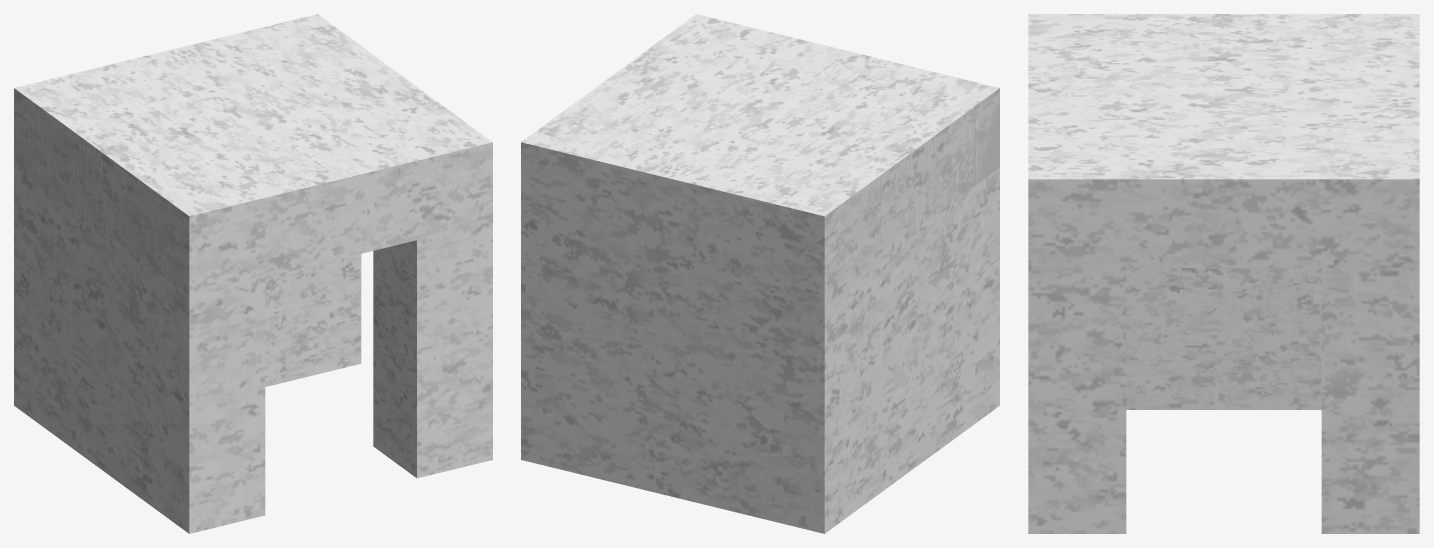
The model's file is internal_hall_turn.obj.
3 renders of one model, left to right at view 1: azimuth 30°, elevation 25°; view 2: azimuth 150°, elevation 25°; view 3: azimuth 270°, elevation 25°, orthographic. The views are drawn at different scales.
Parts seen in each view (by area): view 1: internal_hall_turn; view 2: internal_hall_turn; view 3: internal_hall_turn.
Part boxes in pixels (<box>): internal_hall_turn: <box>14,14,492,533</box>; internal_hall_turn: <box>521,14,999,533</box>; internal_hall_turn: <box>1028,14,1419,533</box>.
Bounding box in the file's own units: 4 × 4 × 4.
